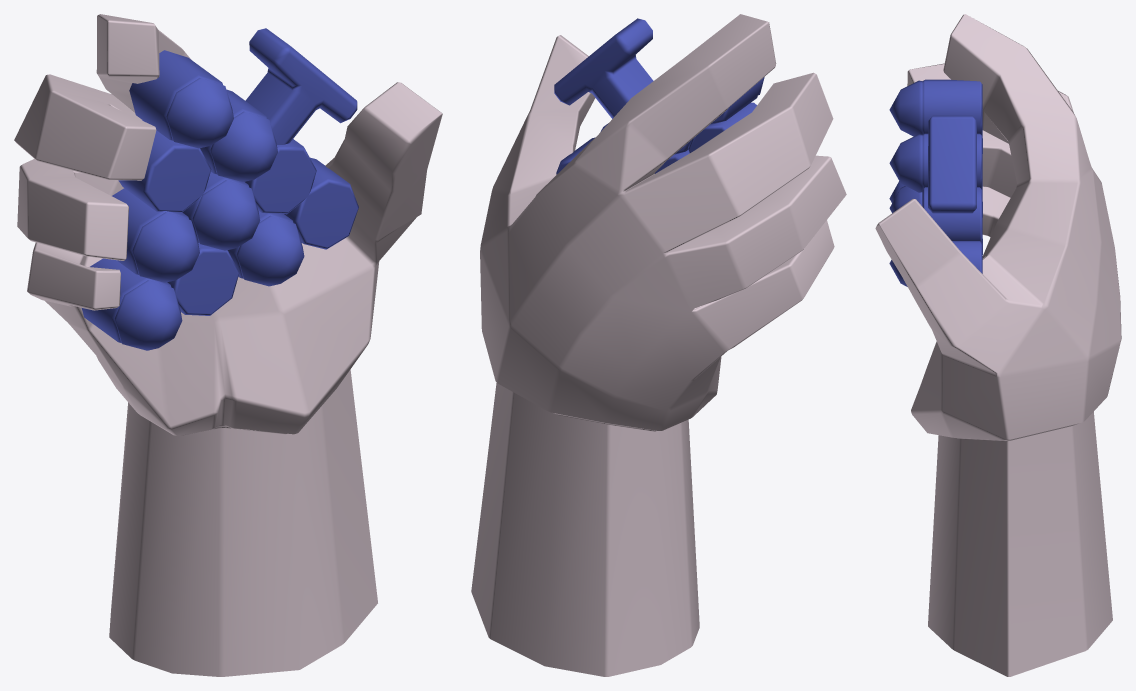
Rendered from mod_sc_roma_001_sculpture_005.fbx.
3 renders of one model, left to right at view 1: azimuth 30°, elevation 25°; view 2: azimuth 150°, elevation 25°; view 3: azimuth 270°, elevation 25°, orthographic. The views are drawn at different scales.
Visible parts, largest first — view 1: mod_sc_roma_001_sculpture_005; view 2: mod_sc_roma_001_sculpture_005; view 3: mod_sc_roma_001_sculpture_005.
Boxes of the visible parts, x1=… form: mod_sc_roma_001_sculpture_005: x1=14, y1=14, x2=442, y2=676; mod_sc_roma_001_sculpture_005: x1=471, y1=14, x2=846, y2=676; mod_sc_roma_001_sculpture_005: x1=875, y1=14, x2=1121, y2=676.
Bounding box in the file's own units: 596 × 1051 × 429.
